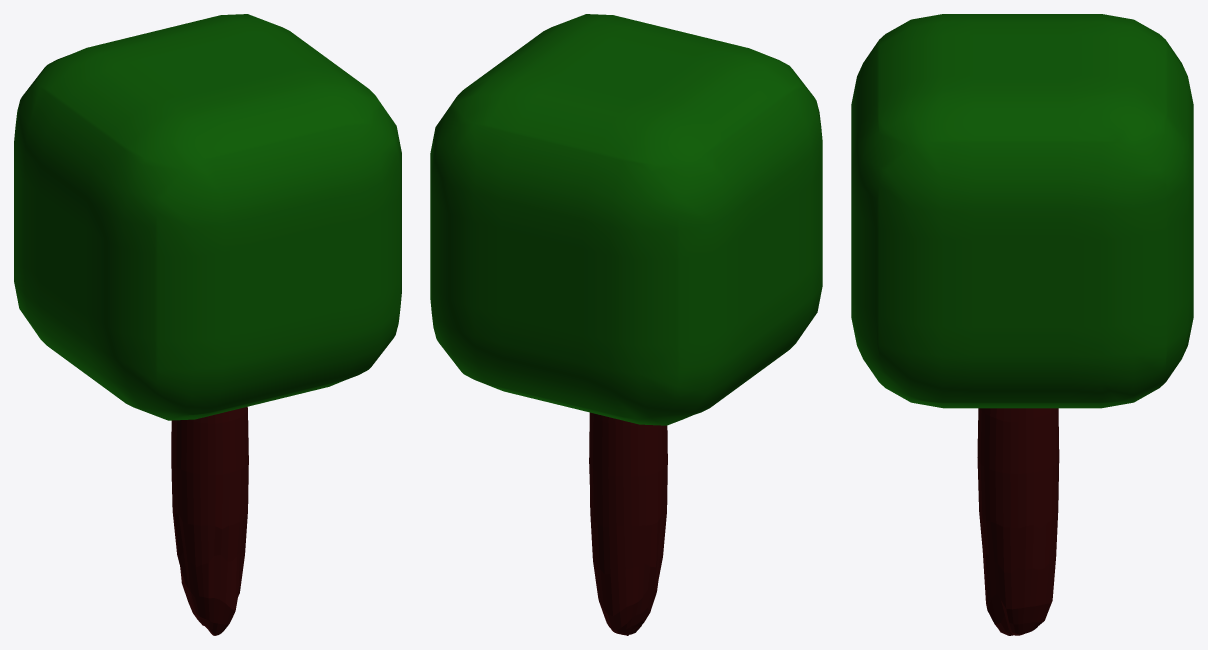
File: tree.fbx
The picture shows the model from 3 angles, left to right: view 1: azimuth 30°, elevation 25°; view 2: azimuth 150°, elevation 25°; view 3: azimuth 270°, elevation 25°; orthographic projection. The views are drawn at different scales.
Parts seen in each view (by area): view 1: Mball, Sphere; view 2: Mball, Sphere; view 3: Mball, Sphere.
Boxes of the visible parts, <box> form: Mball: <box>14,14,401,420</box>; Sphere: <box>171,407,248,635</box>; Mball: <box>430,14,822,425</box>; Sphere: <box>589,412,667,635</box>; Mball: <box>851,14,1193,408</box>; Sphere: <box>977,408,1059,635</box>.
Bounding box in the file's own units: 430 × 803 × 430.
